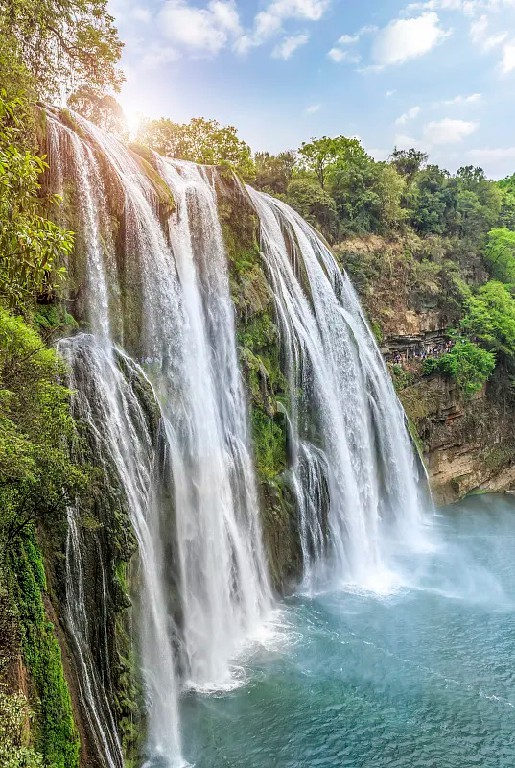Huangguoshu: (42, 111, 437, 768)
